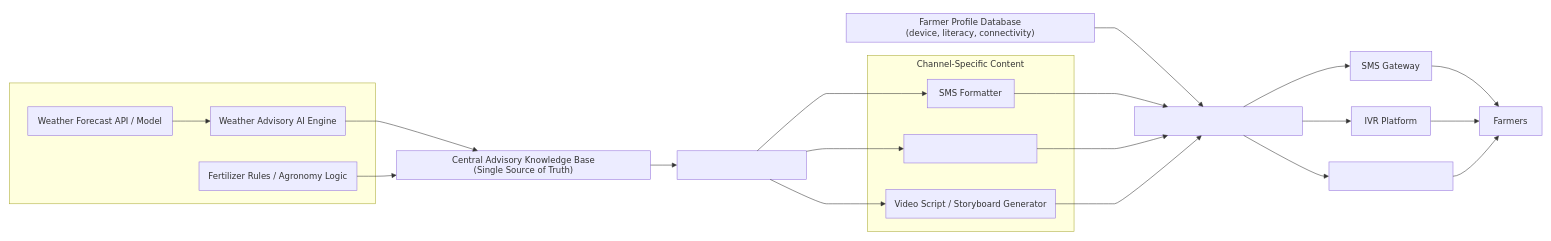
The diagram is 1551 pixels wide and 241 high, and some of its shapes have lost their labels. The shapes that lost their labels are listed below. From the top down, each one's box as (x1, y1, x2, y2) in pixels, then its label:
(1134, 106, 1302, 135): Channel Routing / Delivery Decision
(9, 82, 376, 204): Advisory Generation Inputs
(903, 134, 1037, 163): IVR Script Generator + TTS
(677, 150, 806, 179): Channel Adaptation Layer
(1328, 161, 1453, 191): Video Hosting / Delivery
